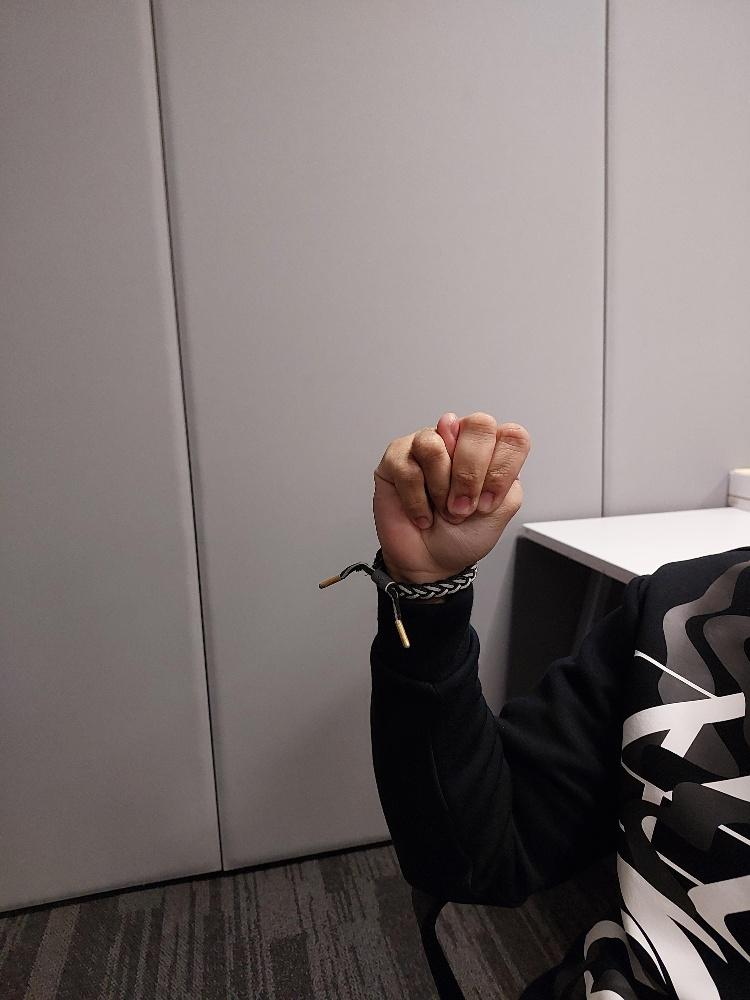n: (372, 410, 531, 574)
